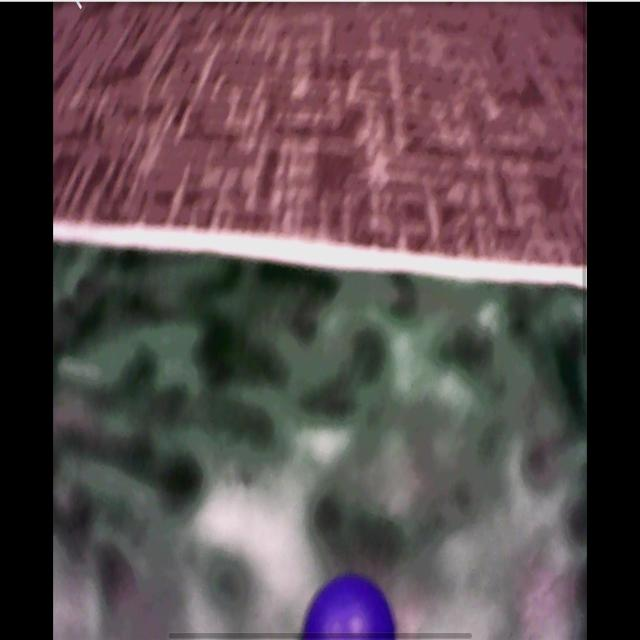ball: (304, 576, 397, 637)
